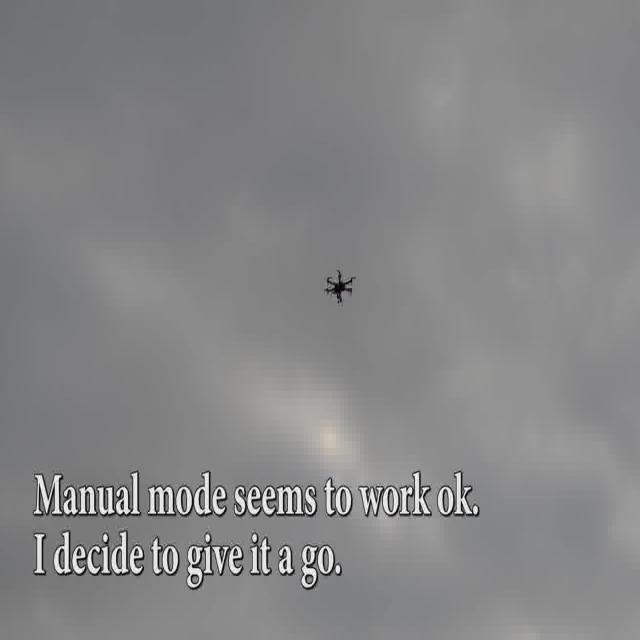drone: (322, 266, 358, 306)
